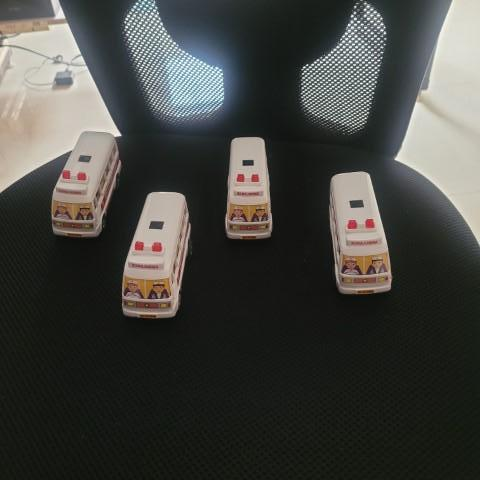ambulance: (119, 190, 198, 326), (324, 165, 394, 299), (49, 129, 122, 241), (223, 133, 278, 244)
